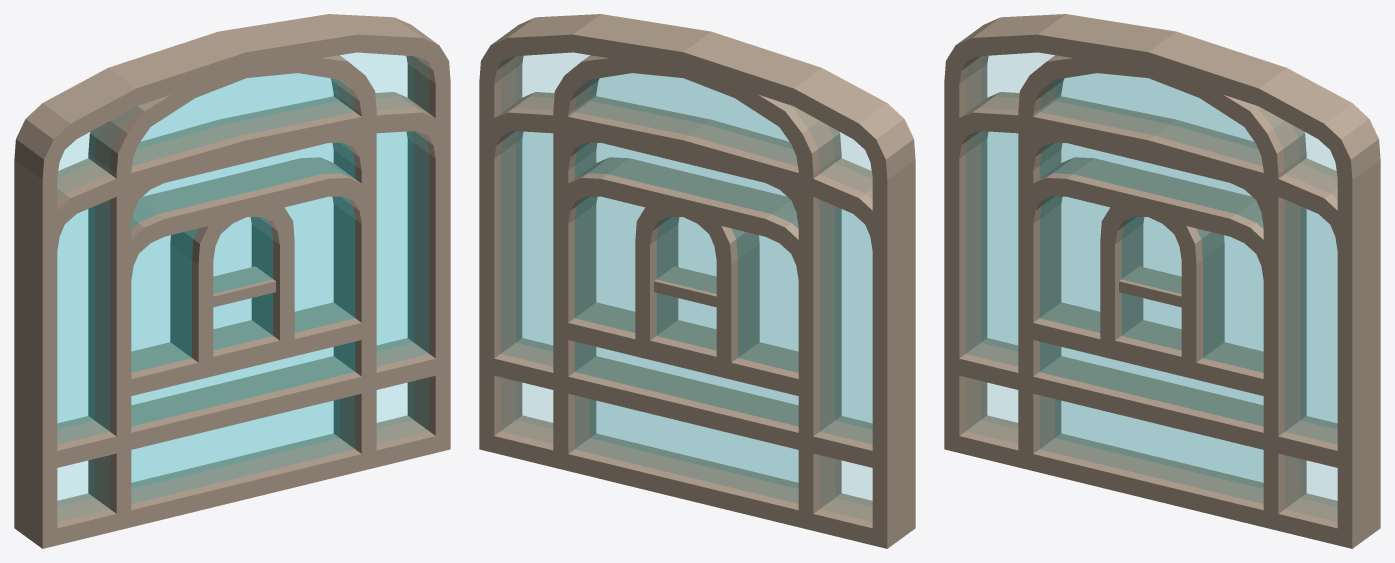
The model's file is Windows.fbx.
The picture shows the model from 3 angles, left to right: view 1: azimuth 30°, elevation 25°; view 2: azimuth 150°, elevation 25°; view 3: azimuth 330°, elevation 25°; orthographic projection.
Visible parts, largest first — view 1: Window6x6, Window6x4, Window4x6, Window4x2, Window4x4, Window2x2; view 2: Window6x6, Window6x4, Window4x6, Window4x2, Window4x4, Window2x2; view 3: Window6x6, Window6x4, Window4x6, Window4x2, Window4x4, Window2x2.
Boxes of the visible parts, bbox=[...] form: Window6x6: bbox=[14, 14, 450, 548]; Window6x4: bbox=[14, 92, 450, 471]; Window4x6: bbox=[88, 55, 376, 530]; Window4x2: bbox=[88, 157, 376, 399]; Window4x4: bbox=[88, 124, 376, 434]; Window2x2: bbox=[170, 198, 294, 362]; Window6x6: bbox=[479, 14, 915, 548]; Window6x4: bbox=[479, 92, 914, 471]; Window4x6: bbox=[553, 55, 841, 530]; Window4x2: bbox=[553, 157, 841, 399]; Window4x4: bbox=[553, 124, 841, 453]; Window2x2: bbox=[635, 198, 759, 362]; Window6x6: bbox=[944, 14, 1380, 548]; Window6x4: bbox=[944, 92, 1380, 471]; Window4x6: bbox=[1018, 55, 1306, 530]; Window4x2: bbox=[1018, 157, 1306, 399]; Window4x4: bbox=[1018, 124, 1306, 434]; Window2x2: bbox=[1100, 198, 1224, 362].
Size of the model in its own units: 55.15 by 57.74 by 6.6.
